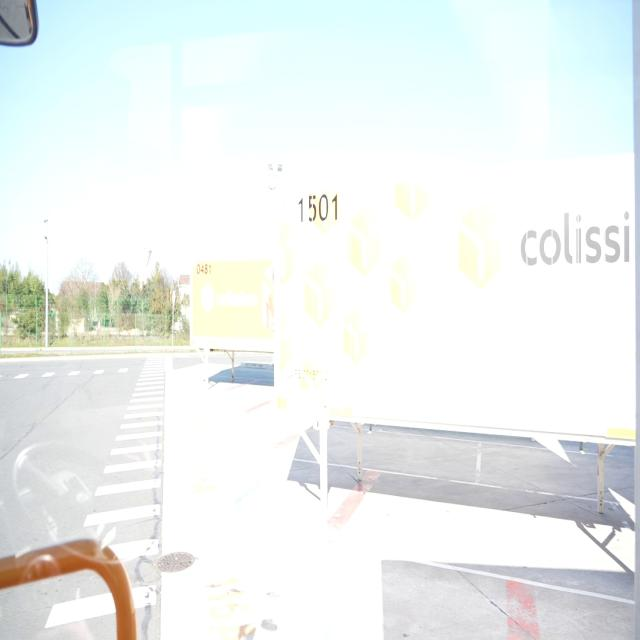Code: (297, 186, 339, 232), (192, 260, 214, 279)
